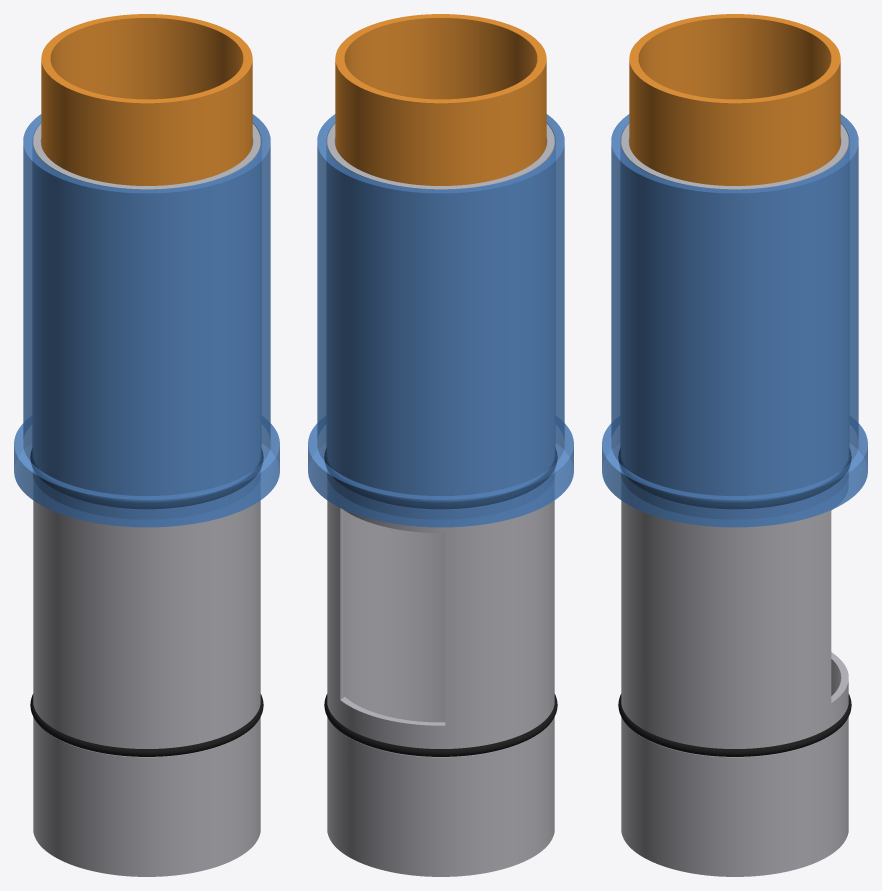
The picture shows the model from 3 angles, left to right: view 1: azimuth 30°, elevation 25°; view 2: azimuth 150°, elevation 25°; view 3: azimuth 270°, elevation 25°; orthographic projection.
Visible parts, largest first — view 1: cleanout_pipe, sliding_sleeve, joint_plug, o_rings; view 2: cleanout_pipe, sliding_sleeve, joint_plug, o_rings; view 3: cleanout_pipe, sliding_sleeve, joint_plug, o_rings.
Boxes of the visible parts, x1=… form: cleanout_pipe: x1=33, y1=123, x2=260, y2=876; sliding_sleeve: x1=14, y1=114, x2=279, y2=527; joint_plug: x1=41, y1=14, x2=252, y2=185; o_rings: x1=30, y1=449, x2=263, y2=756; cleanout_pipe: x1=327, y1=123, x2=554, y2=876; sliding_sleeve: x1=308, y1=114, x2=573, y2=527; joint_plug: x1=335, y1=14, x2=546, y2=185; o_rings: x1=324, y1=449, x2=557, y2=756; cleanout_pipe: x1=621, y1=123, x2=848, y2=876; sliding_sleeve: x1=602, y1=114, x2=867, y2=527; joint_plug: x1=629, y1=14, x2=840, y2=185; o_rings: x1=618, y1=449, x2=851, y2=756.
Size of the model in its own units: 87.6 by 280 by 87.57.
